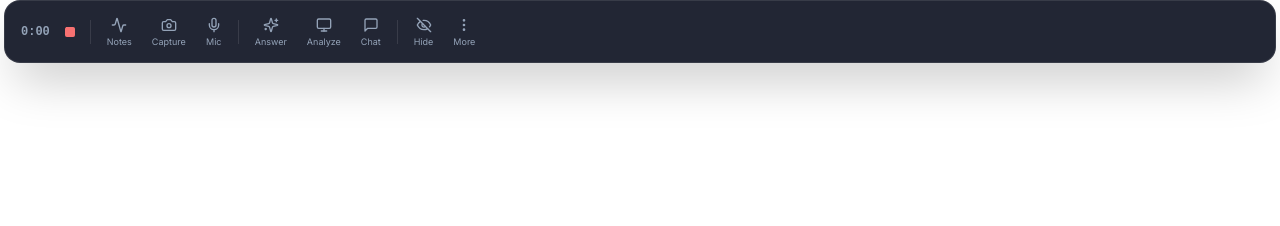
Test: SessionScreen › opens the AI Answer panel when AI Answer is clicked
Click the button with aria-label "ai answer" at (271, 32), box [247,9,295,54]
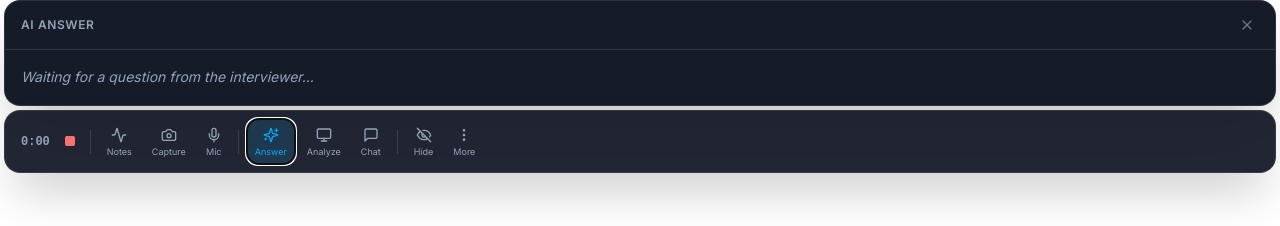
Expected: the element named "ai panel" is shown, [4,0,1276,106]
